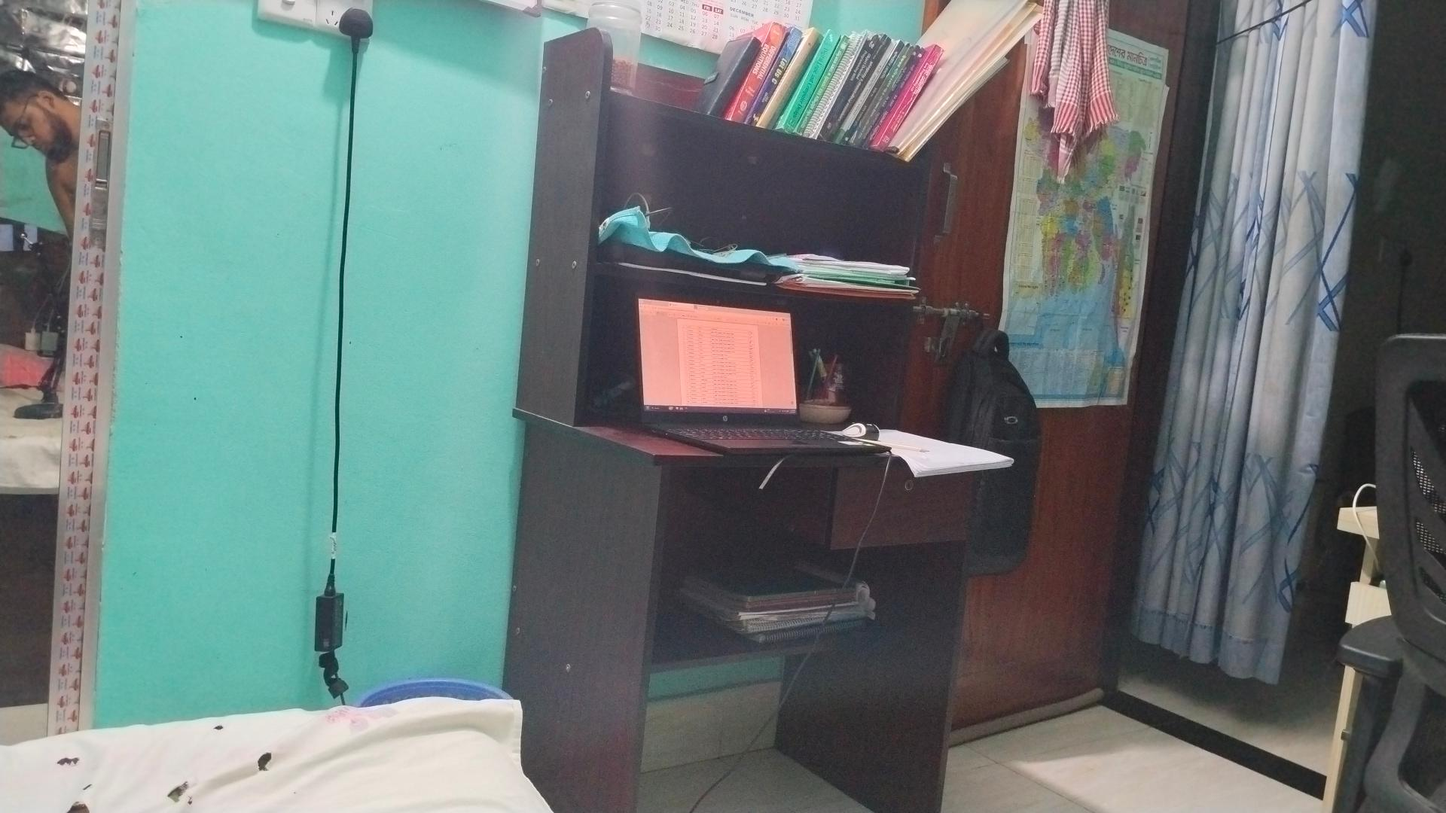Bag: (955, 299, 1048, 587)
Book: (709, 7, 915, 150), (692, 564, 882, 639), (753, 220, 920, 297)
Jar: (574, 0, 639, 97)
Laptop: (611, 283, 882, 472)
Table: (531, 12, 956, 805)
